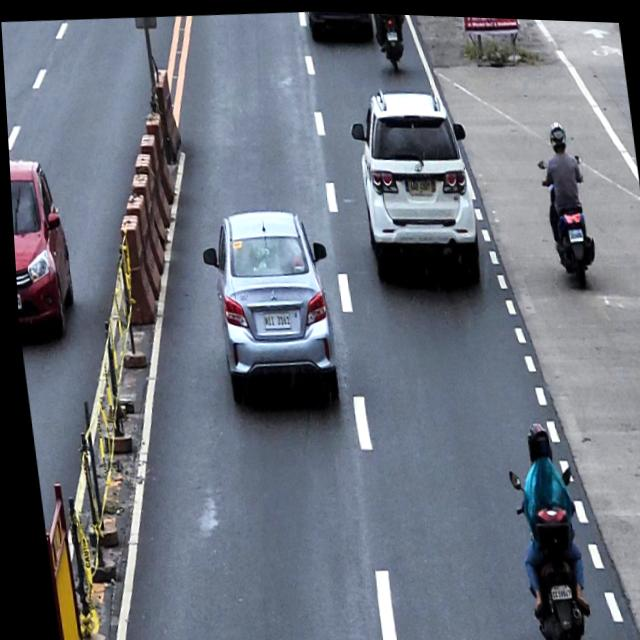Car: (194, 200, 341, 407), (343, 78, 482, 285), (7, 154, 75, 342)
License-Plate: (257, 307, 288, 329), (404, 174, 431, 193), (541, 577, 566, 596), (564, 223, 582, 240), (385, 26, 399, 39), (14, 293, 18, 309)
Motorcycle: (501, 455, 588, 640), (534, 148, 596, 283), (371, 11, 410, 69)
